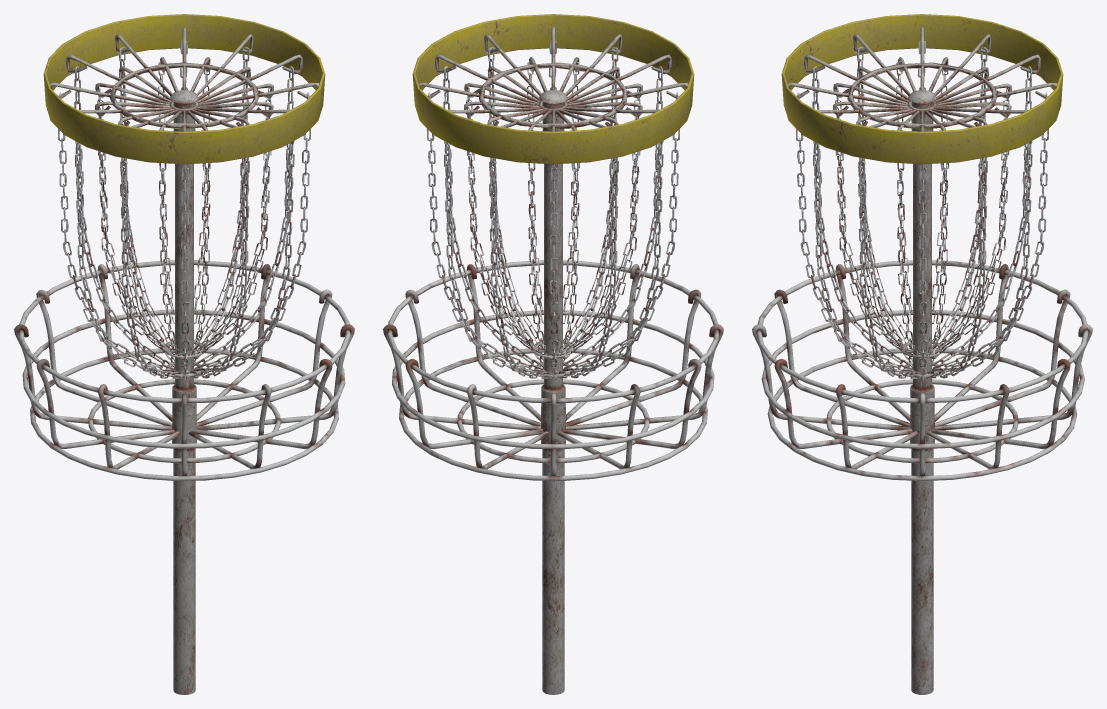
The model's file is DiscExtremlyLowQuality.glb.
3 views of the same model, side by side, from view 1: azimuth 30°, elevation 25°; view 2: azimuth 150°, elevation 25°; view 3: azimuth 270°, elevation 25° (orthographic).
Parts seen in each view (by area): view 1: TopRim, OuterChain, BaasketRod1, Pole, InnerChain, TopRing, Rim3, Rim4, Rim2, TopRing2, Rim1, Torus.002; view 2: TopRim, OuterChain, BaasketRod1, Pole, InnerChain, TopRing, Rim3, Rim4, Rim2, TopRing2, Rim1, Torus.002; view 3: TopRim, OuterChain, BaasketRod1, Pole, InnerChain, TopRing, Rim3, Rim4, Rim2, TopRing2, Rim1, Torus.002.
Part boxes in pixels (x1=…): TopRim: x1=43, y1=14, x2=325, y2=164; OuterChain: x1=58, y1=40, x2=310, y2=380; BaasketRod1: x1=14, y1=264, x2=354, y2=475; Pole: x1=170, y1=90, x2=198, y2=694; InnerChain: x1=97, y1=61, x2=271, y2=358; TopRing: x1=49, y1=27, x2=319, y2=131; Rim3: x1=19, y1=260, x2=350, y2=403; Rim4: x1=22, y1=309, x2=345, y2=448; Rim2: x1=30, y1=347, x2=338, y2=480; TopRing2: x1=95, y1=57, x2=273, y2=130; Rim1: x1=88, y1=379, x2=280, y2=463; Torus.002: x1=109, y1=62, x2=259, y2=128; TopRim: x1=412, y1=14, x2=694, y2=164; OuterChain: x1=426, y1=40, x2=679, y2=380; BaasketRod1: x1=383, y1=264, x2=723, y2=475; Pole: x1=539, y1=90, x2=567, y2=694; InnerChain: x1=466, y1=61, x2=640, y2=358; TopRing: x1=418, y1=26, x2=688, y2=131; Rim3: x1=387, y1=260, x2=718, y2=403; Rim4: x1=392, y1=310, x2=714, y2=449; Rim2: x1=399, y1=347, x2=707, y2=480; TopRing2: x1=464, y1=57, x2=642, y2=130; Rim1: x1=457, y1=379, x2=649, y2=463; Torus.002: x1=479, y1=62, x2=627, y2=128; TopRim: x1=781, y1=14, x2=1063, y2=164; OuterChain: x1=796, y1=40, x2=1048, y2=380; BaasketRod1: x1=752, y1=264, x2=1092, y2=475; Pole: x1=908, y1=90, x2=936, y2=694; InnerChain: x1=835, y1=61, x2=1009, y2=358; TopRing: x1=787, y1=26, x2=1057, y2=131; Rim3: x1=756, y1=260, x2=1088, y2=403; Rim4: x1=761, y1=310, x2=1084, y2=448; Rim2: x1=767, y1=347, x2=1077, y2=480; TopRing2: x1=833, y1=57, x2=1011, y2=130; Rim1: x1=826, y1=379, x2=1018, y2=463; Torus.002: x1=847, y1=62, x2=997, y2=128.
Size of the model in its own units: 0.6445 by 1.29 by 0.6445.
Materials: 5 (5 with a texture image).
